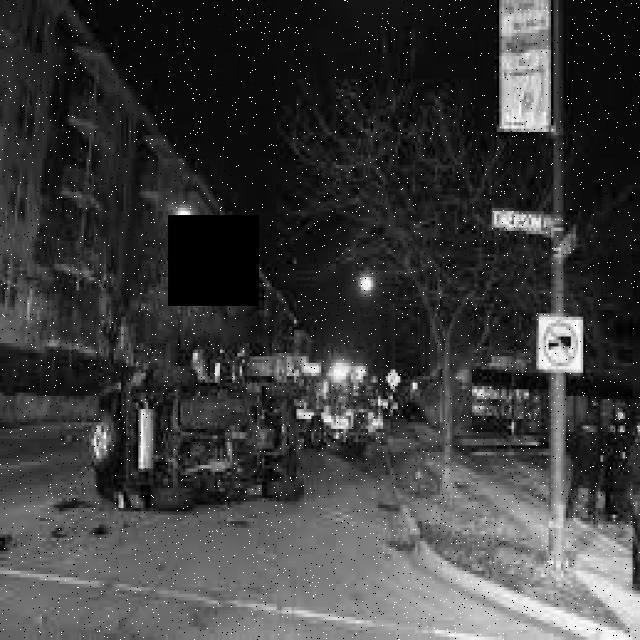accident: (88, 360, 303, 515)
vehicle: (282, 352, 388, 464)
